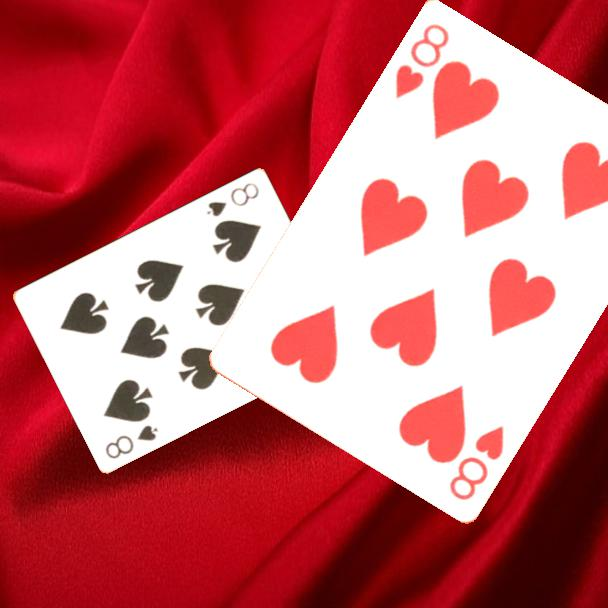h08: (391, 19, 453, 101), (445, 421, 507, 503)
s08: (203, 179, 262, 219), (102, 421, 161, 461)
